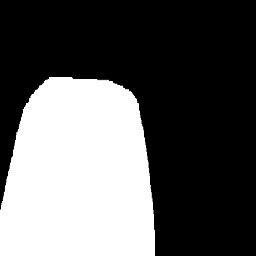mass: (8, 73, 156, 256)
